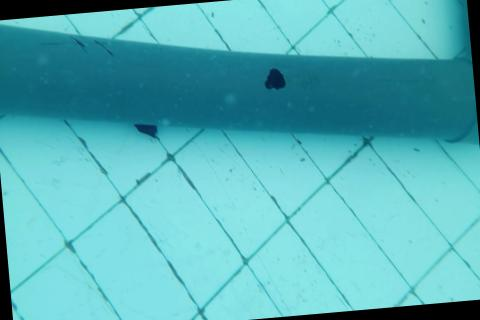kebocoran: (262, 65, 286, 91)
keretakan: (39, 30, 123, 63)
